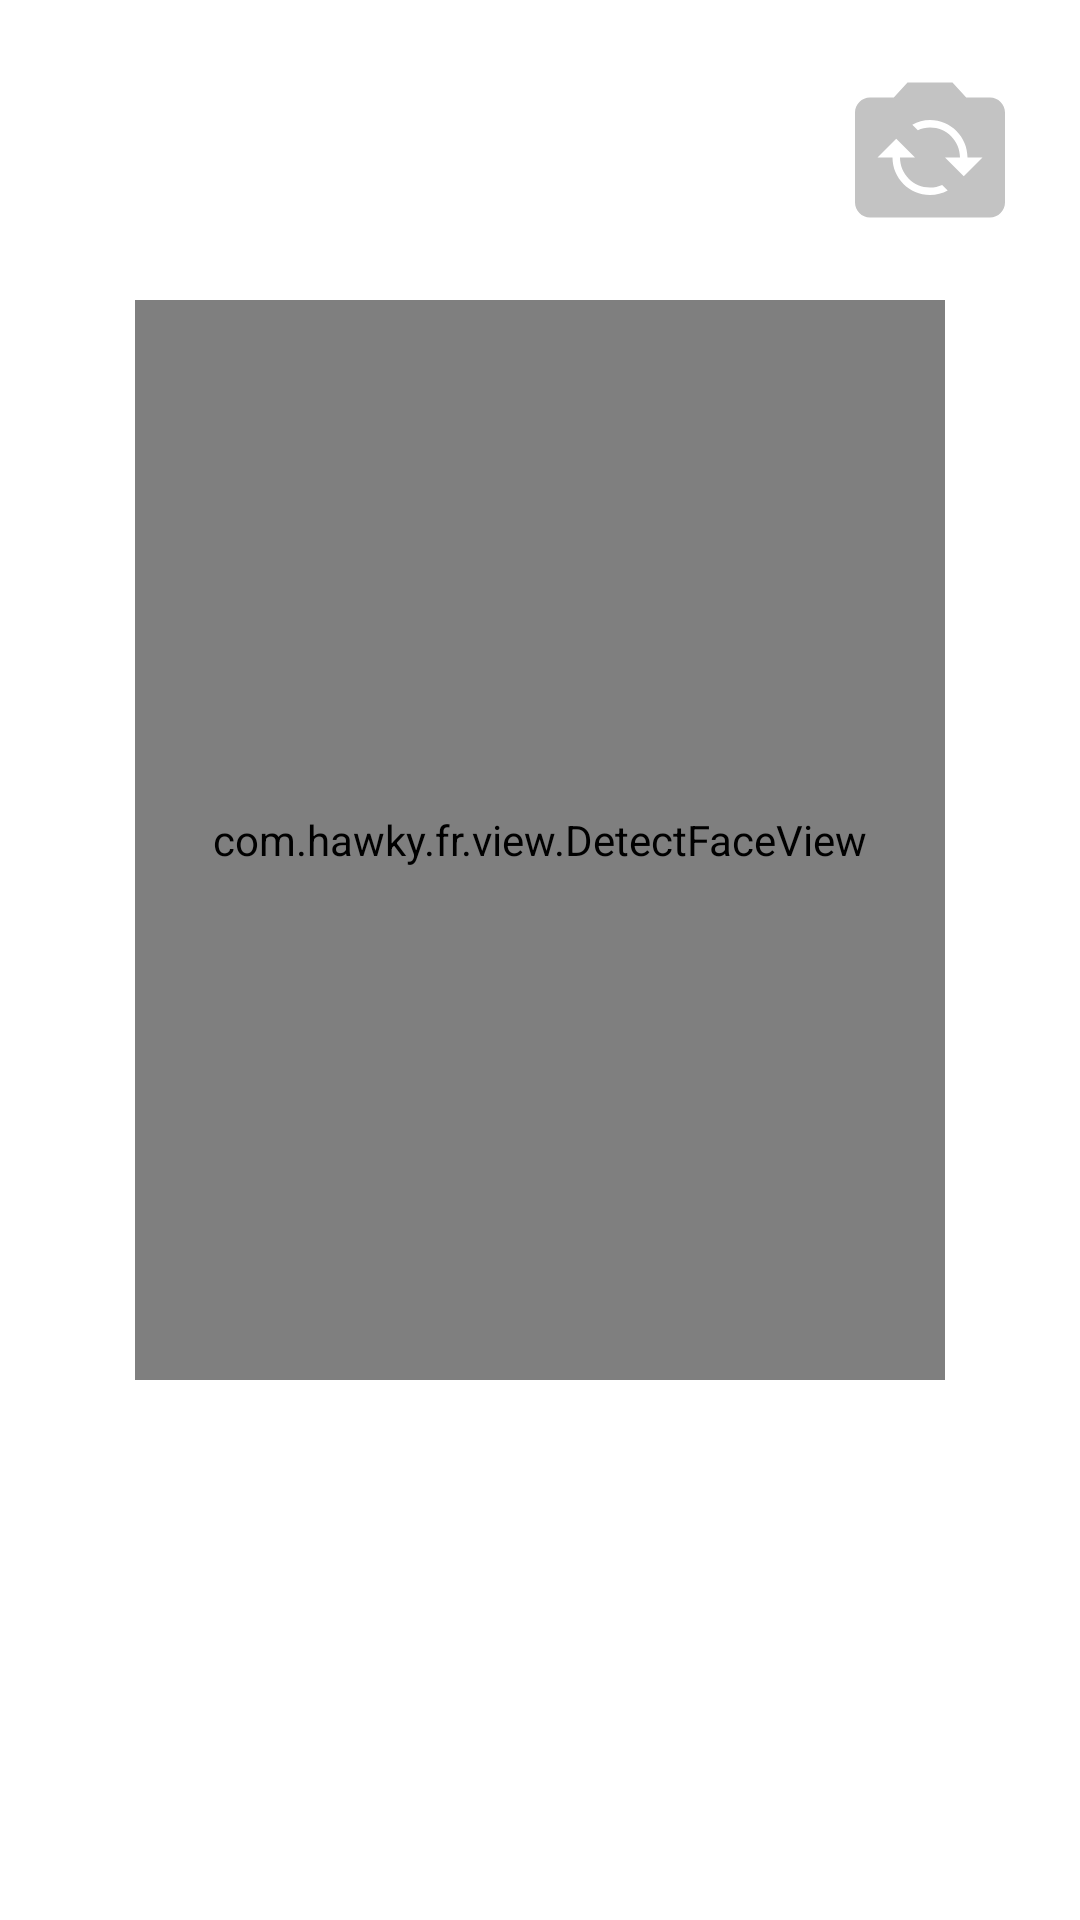

Icons on this 1080x1920 Android screen, each with the point to tap as (x,y):
camera switch: (930,150)
